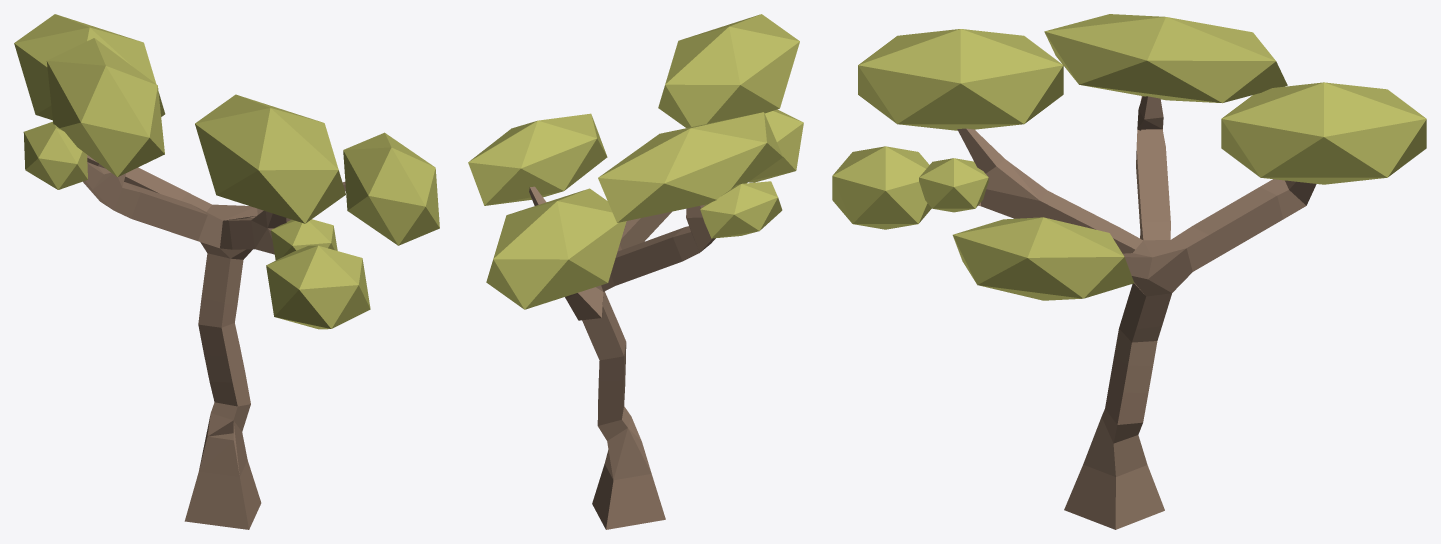
The model's file is tree.fbx.
3 renders of one model, left to right at view 1: azimuth 30°, elevation 25°; view 2: azimuth 150°, elevation 25°; view 3: azimuth 270°, elevation 25°, orthographic. The views are drawn at different scales.
Visible parts, largest first — view 1: Icosphere.006; view 2: Icosphere.006; view 3: Icosphere.006.
Part boxes in pixels (x1,y1,x2,y2): Icosphere.006: (14,14,439,529); Icosphere.006: (468,14,803,529); Icosphere.006: (832,14,1426,529).
Size of the model in its own units: 231 by 298 by 343.
